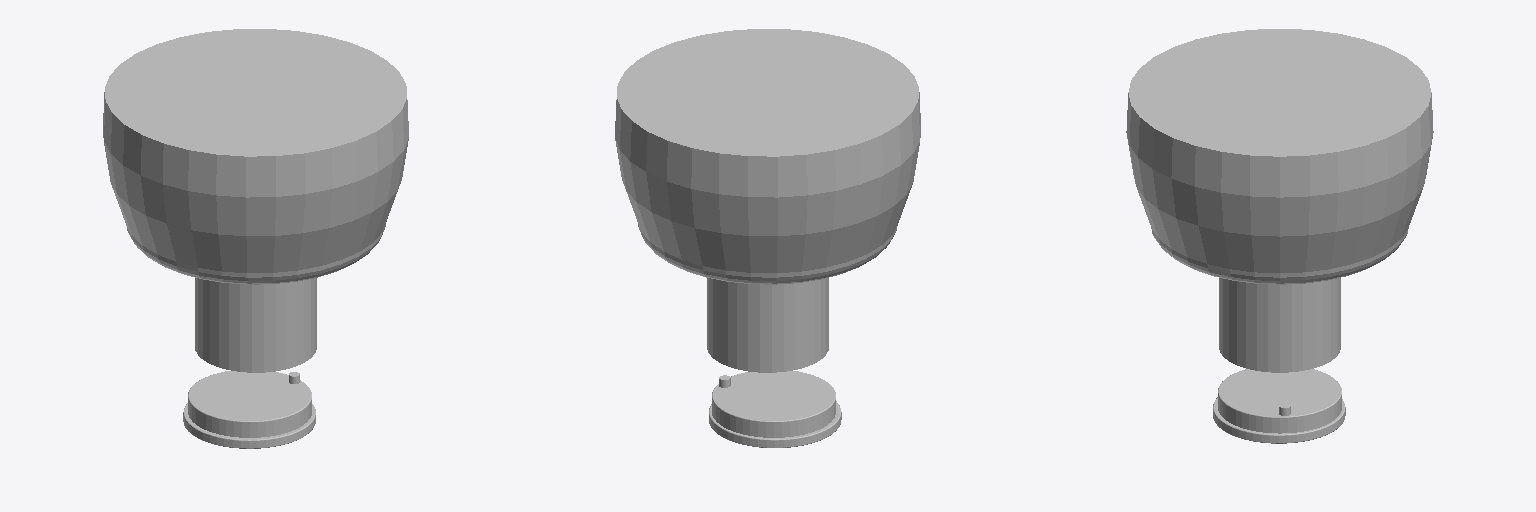
The model's file is hello9_lamp.obj.
3 renders of one model, left to right at view 1: azimuth 30°, elevation 25°; view 2: azimuth 150°, elevation 25°; view 3: azimuth 270°, elevation 25°, orthographic.
Parts seen in each view (by area): view 1: 柱体, 贝塞尔圆, 贝塞尔圆.001; view 2: 柱体, 贝塞尔圆, 贝塞尔圆.001; view 3: 柱体, 贝塞尔圆, 贝塞尔圆.001.
Part boxes in pixels (x1,y1,x2,y2): 柱体: (103,29,408,372); 贝塞尔圆: (188,371,311,437); 贝塞尔圆.001: (183,403,315,448); 柱体: (615,29,920,372); 贝塞尔圆: (712,371,835,437); 贝塞尔圆.001: (709,401,841,447); 柱体: (1126,29,1433,372); 贝塞尔圆: (1218,369,1341,433); 贝塞尔圆.001: (1213,397,1345,443).
Size of the model in its own units: 5.02 by 5.89 by 5.02.